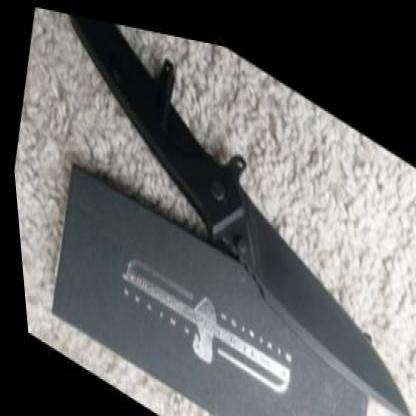knife: (195, 160, 415, 413)
